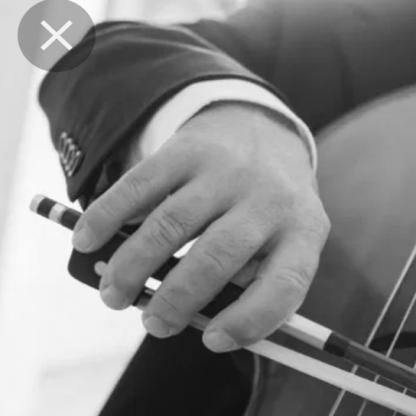good: (80, 53, 342, 371)
